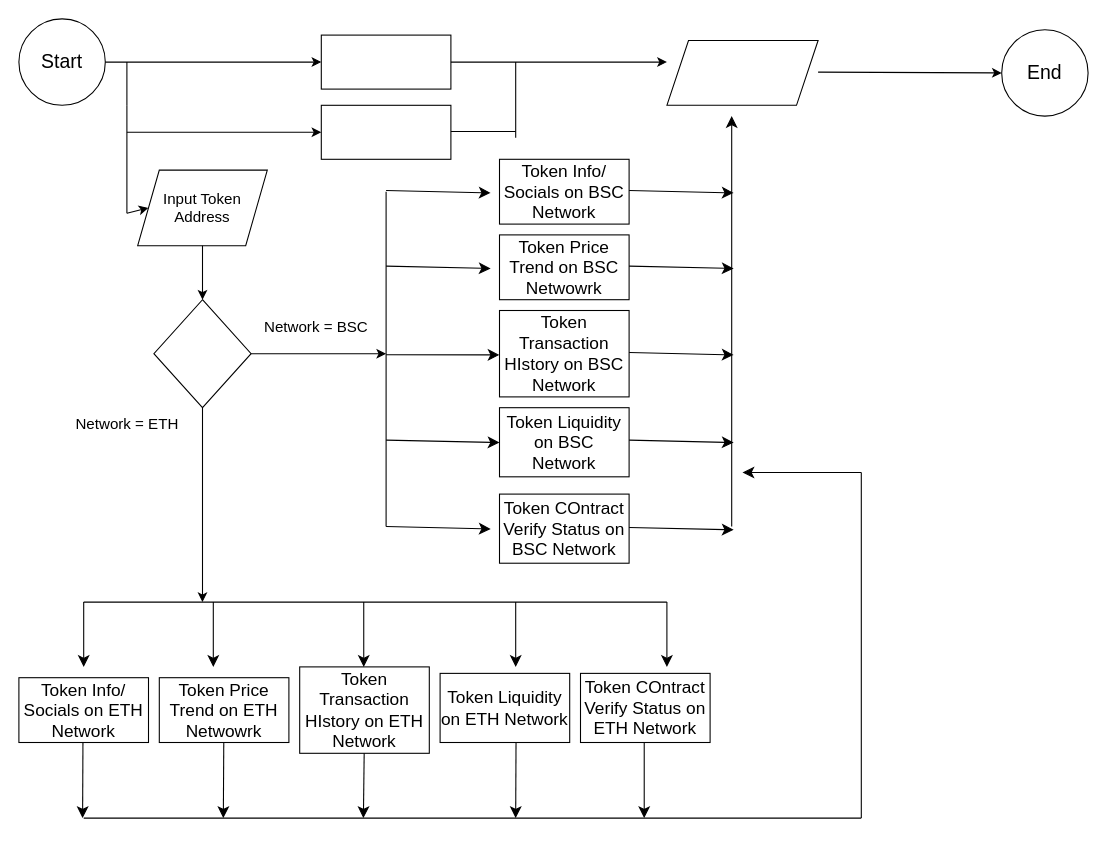
The diagram is 1107 pixels wide and 848 high, and some of its shapes have lost their labels. The centre of each missing label's shape, as x and y in pixels:
"Check Token Network" belongs at (x=202, y=353).
"Show Respective Info" belongs at (x=742, y=72).
"Top 50 tokens" belongs at (x=385, y=61).
"Trending Token" belongs at (x=385, y=131).
